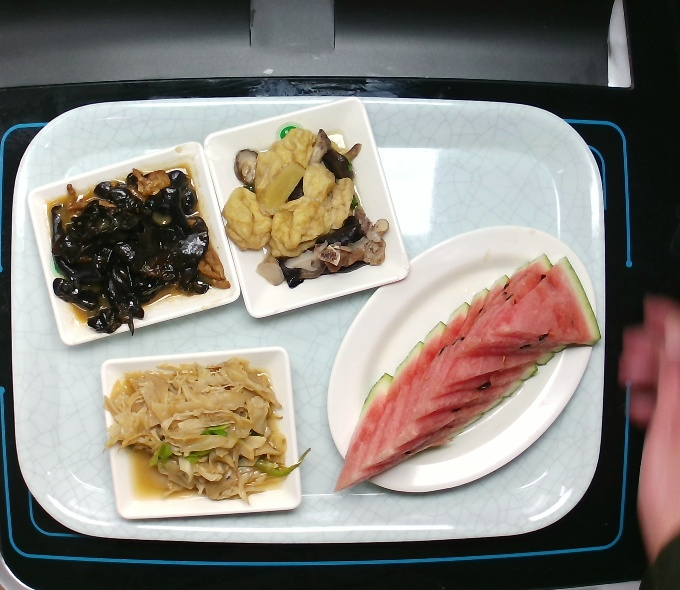wcq-LuSun: (99, 350, 292, 507)
wcq-MuErChaoRou: (42, 171, 231, 340)
wcq-XiGua: (322, 248, 605, 499)
wcq-YouPaoPaiGu: (211, 117, 389, 295)
